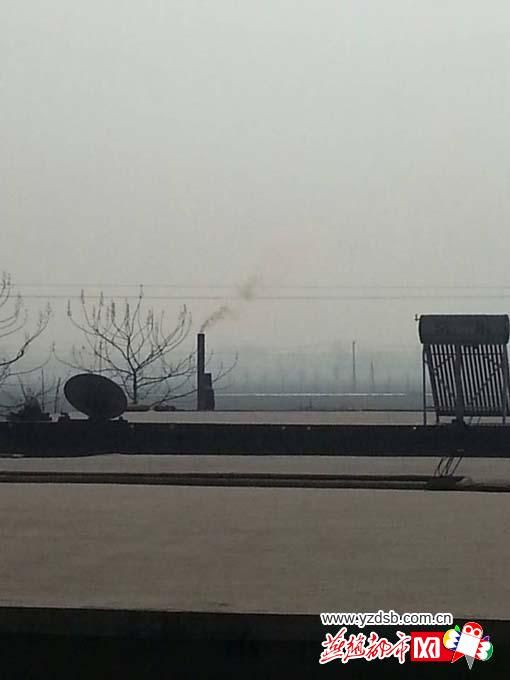dust: (182, 257, 281, 340)
